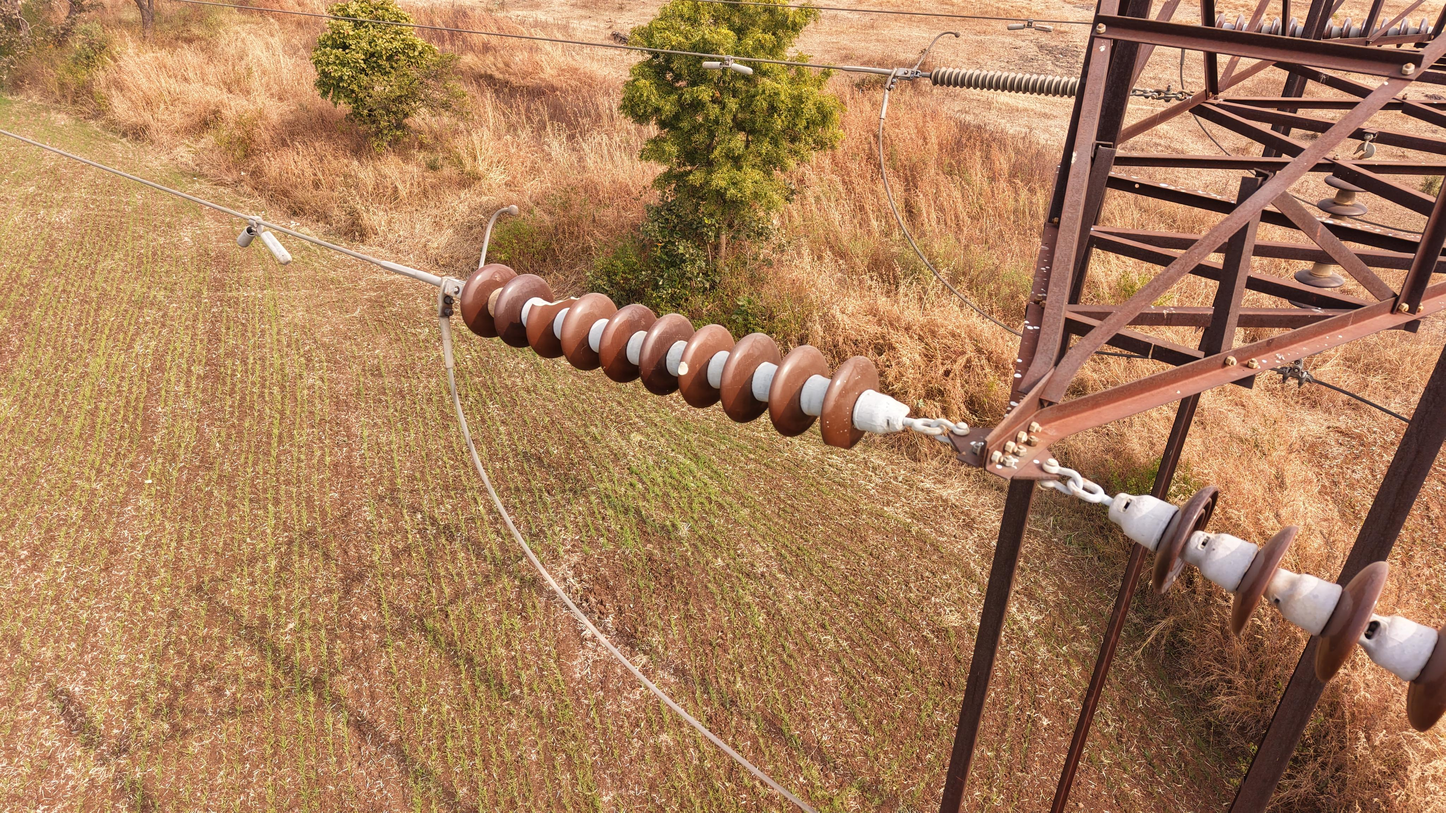broken_insulator: (819, 355, 870, 452), (677, 324, 732, 409), (525, 280, 582, 359)
